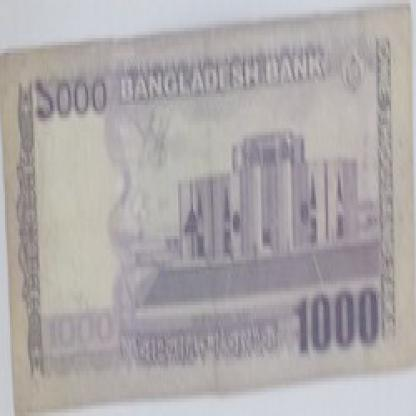One Thousand taka: (289, 284, 380, 354), (32, 70, 113, 122), (42, 308, 118, 353)
